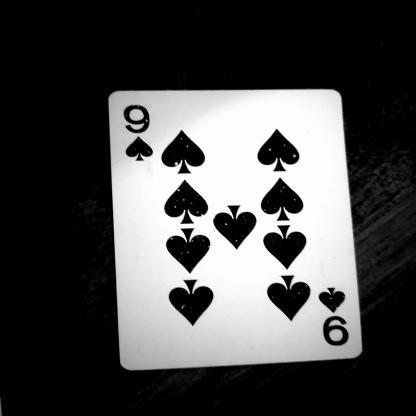9S: (312, 278, 371, 348), (116, 101, 152, 168)
